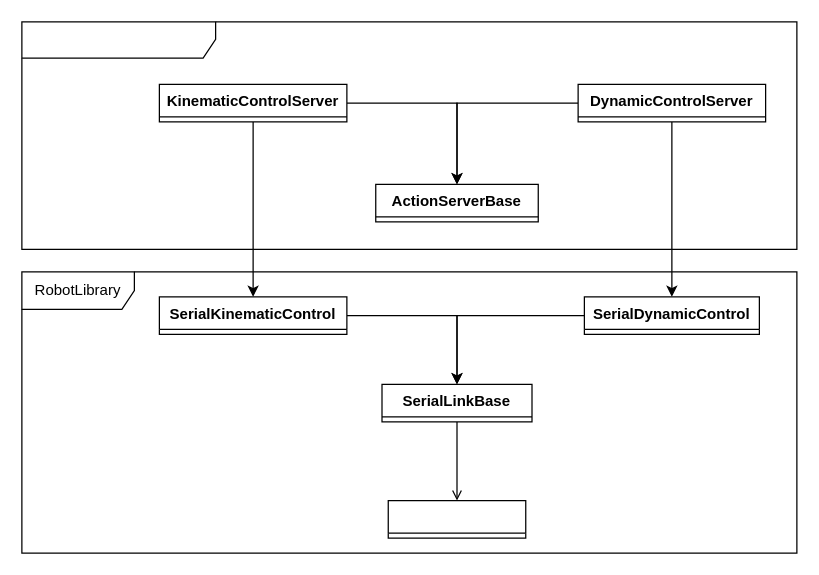
The diagram is 819 pixels wide and 575 high, and some of its shapes have lost their labels. Here are the shapes that lost their labels. From the top down, the centre of each, then its label:
At pixel 409 135: "serial_link_action_server".
At pixel 456 518: "KinematicTree".
